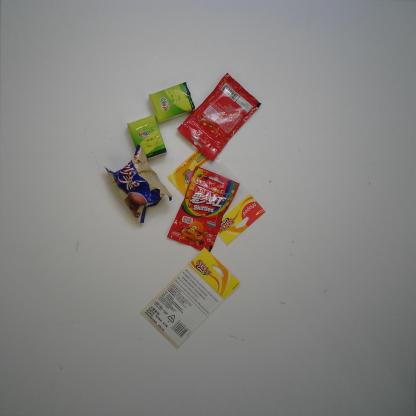Candy: (176, 72, 263, 162), (166, 165, 240, 254)
Dessert: (103, 144, 173, 224)
Stationery: (139, 246, 242, 350), (167, 149, 266, 246)
Tissue: (147, 81, 196, 125), (127, 113, 168, 160)
